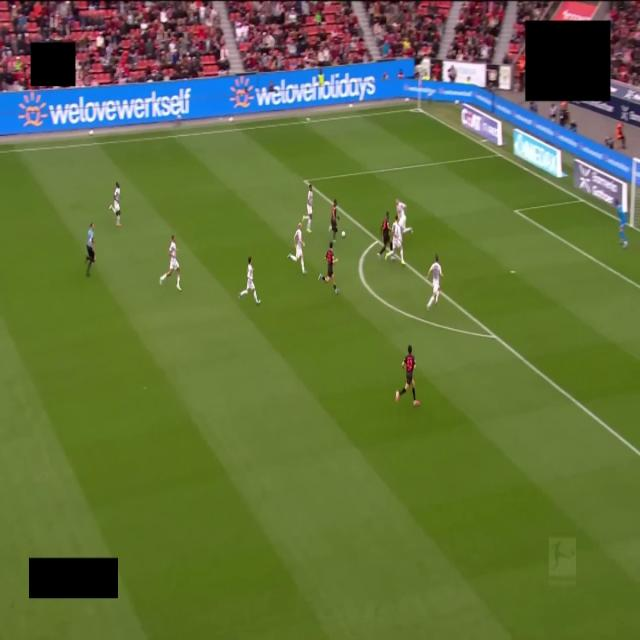ball: (341, 231, 346, 237)
player: (396, 345, 419, 406), (160, 235, 181, 290), (319, 242, 339, 294), (239, 257, 260, 304), (385, 216, 404, 264), (288, 224, 306, 274), (427, 255, 442, 310), (615, 200, 627, 247), (396, 200, 412, 233), (379, 212, 390, 257), (110, 182, 121, 226), (303, 184, 313, 232), (330, 200, 338, 241)
referee: (86, 223, 95, 276)
